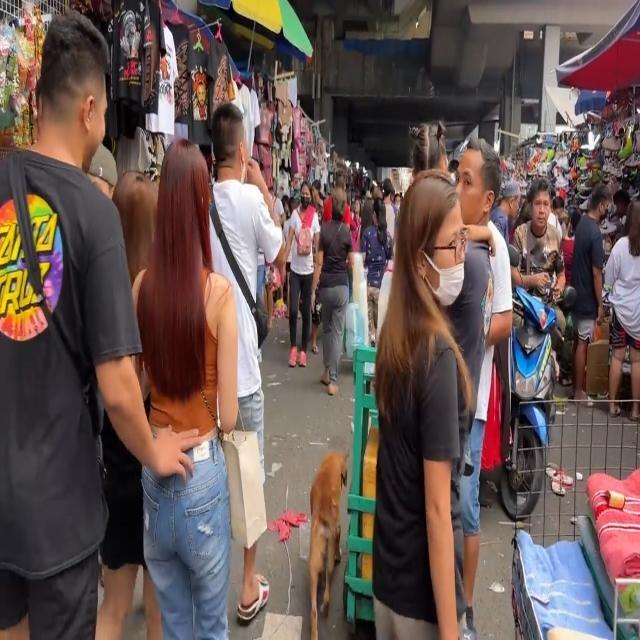hairnet: (429, 218, 467, 304)
